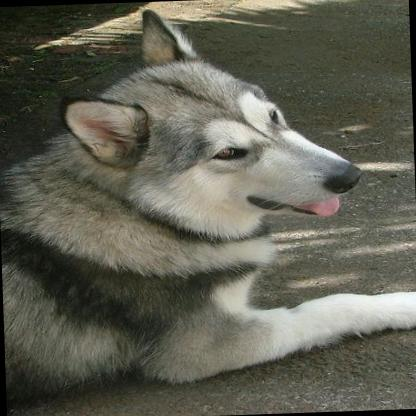malamute: (0, 0, 416, 390)
